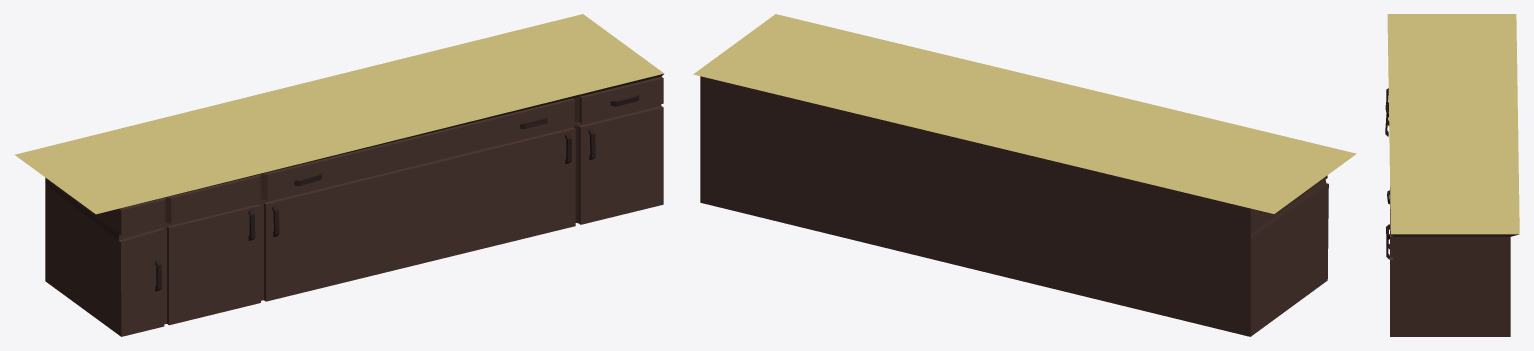
Rendered from Counter_01.fbx.
The picture shows the model from 3 angles, left to right: view 1: azimuth 30°, elevation 25°; view 2: azimuth 150°, elevation 25°; view 3: azimuth 270°, elevation 25°; orthographic projection. The views are drawn at different scales.
Parts seen in each view (by area): view 1: group1142142446; view 2: group1142142446; view 3: group1142142446.
Part boxes in pixels (box(x1,y1,x2,y2)): group1142142446: box(14, 14, 664, 336); group1142142446: box(693, 14, 1356, 336); group1142142446: box(1387, 14, 1519, 336).
Size of the model in its own units: 156 by 34 by 40.19.
